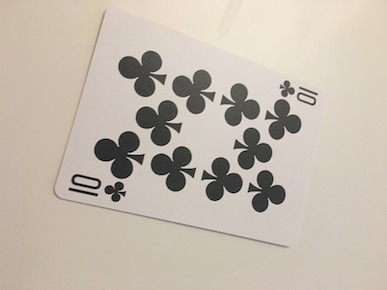TenOfClubs: (50, 2, 326, 247)
